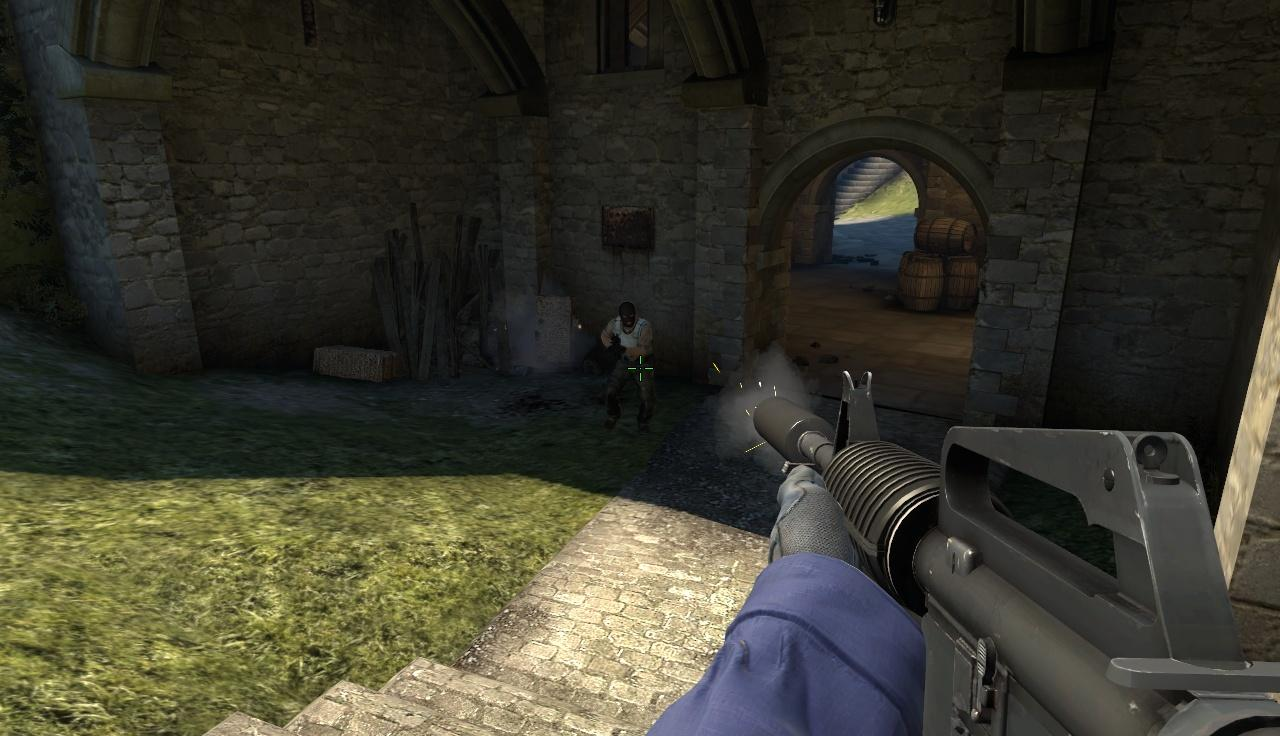rifle: (746, 364, 1280, 736)
tt: (607, 302, 652, 431)
tthead: (619, 302, 636, 327)
